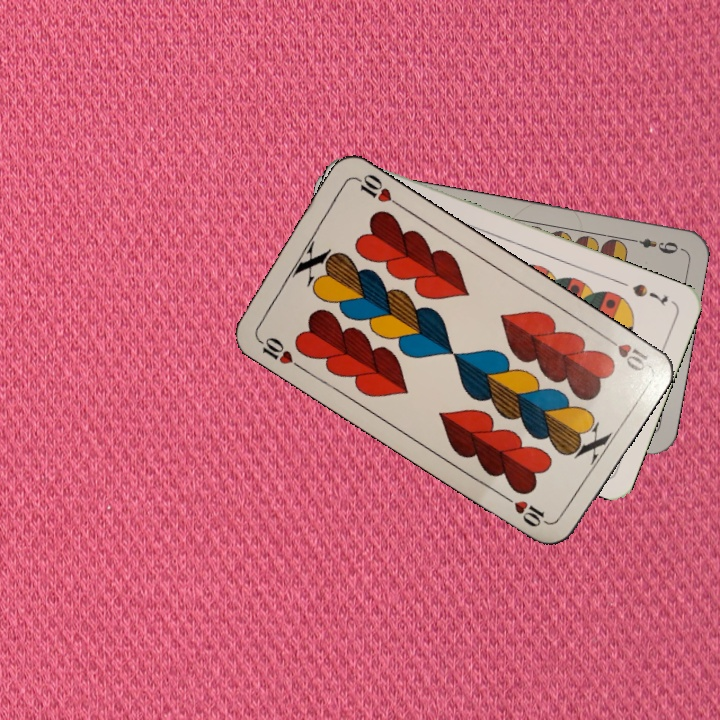E9: (625, 234, 681, 257)
H10: (599, 330, 653, 376), (252, 333, 304, 372)
S7: (628, 279, 671, 308)
